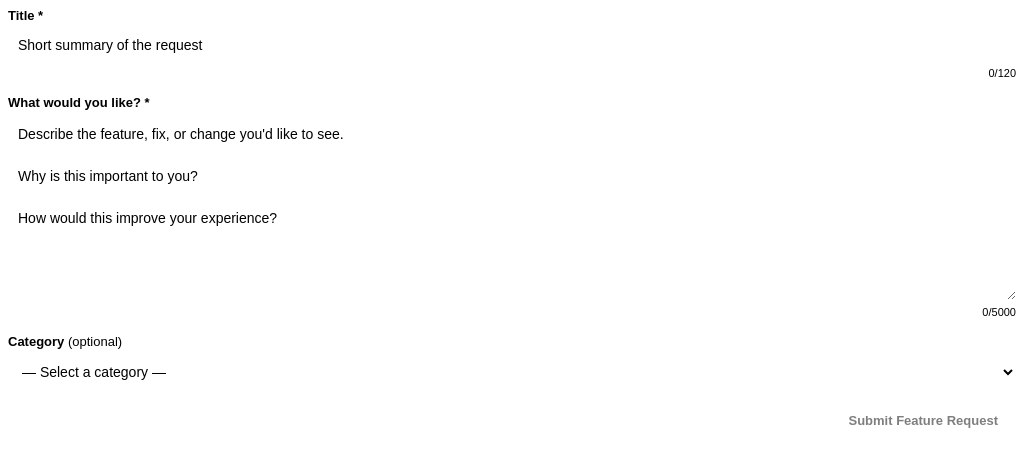
Test case: FeatureRequestPanel › validation › enables submit when both required fields are valid (category optional)
Step 1. Type "Dark mode toggle" into the field labelled "Title *" → {"x": 512, "y": 45}, box x1=8 y1=29 x2=1016 y2=61
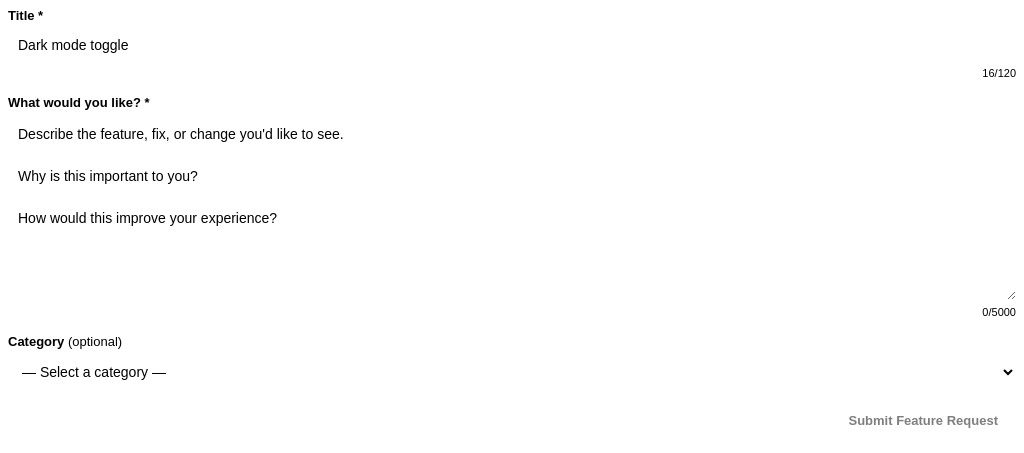
Step 2. Replace the text in the text box labelled "What would you like? *" with "Please add a dark mode." → {"x": 512, "y": 208}, box x1=8 y1=116 x2=1016 y2=300
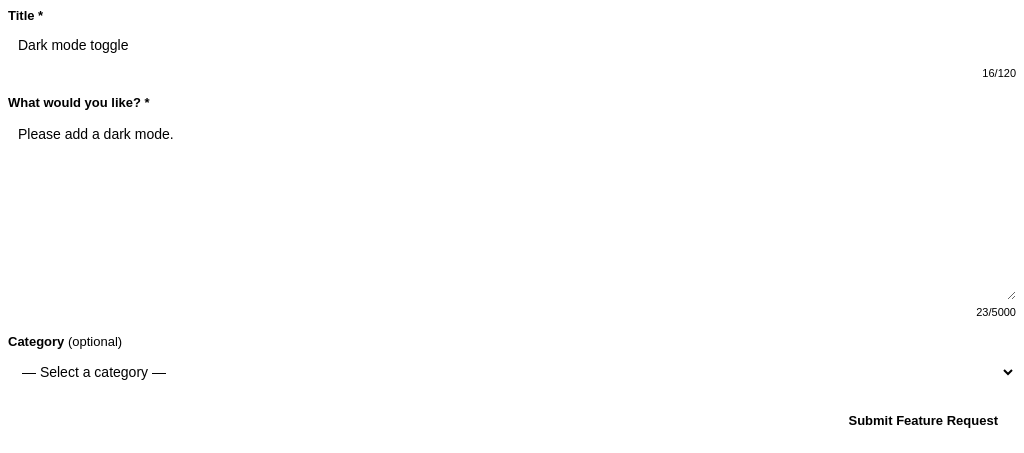
Now the button "Submit Feature Request" is enabled, box x1=830 y1=405 x2=1016 y2=436
